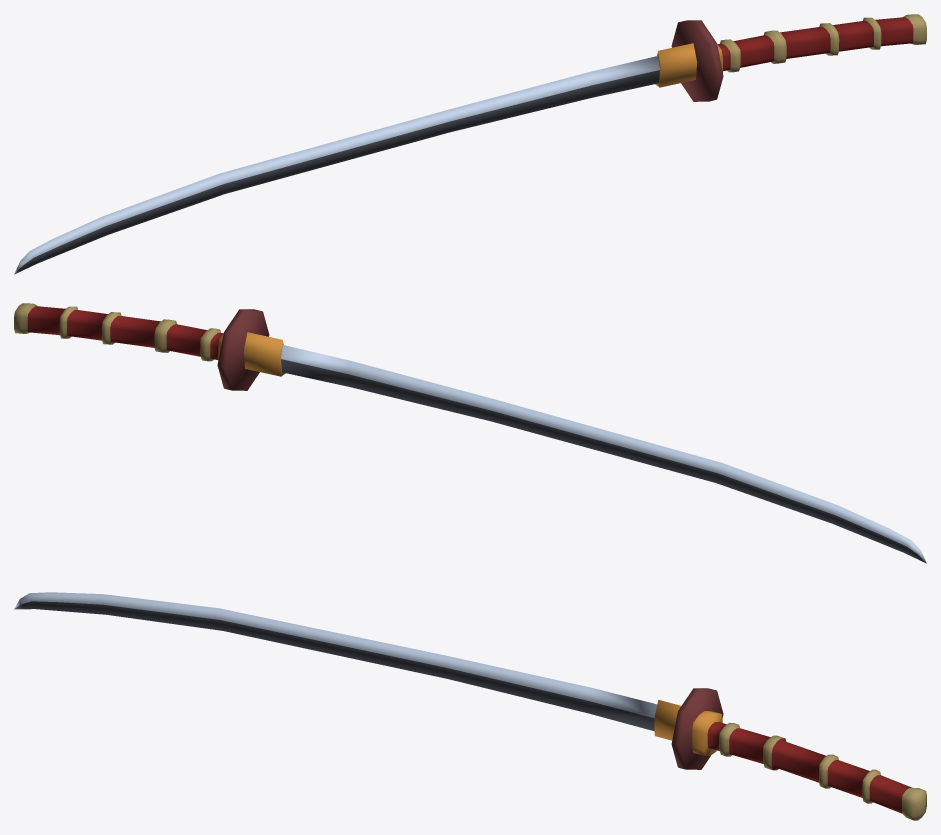
The model's file is Katana  Asia.fbx.
The picture shows the model from 3 angles, top to bottom: view 1: azimuth 30°, elevation 25°; view 2: azimuth 150°, elevation 25°; view 3: azimuth 330°, elevation 25°; orthographic projection.
Visible parts, largest first — view 1: Katana; view 2: Katana; view 3: Katana.
Boxes of the visible parts, <box> form: Katana: <box>14,14,926,274</box>; Katana: <box>14,303,926,563</box>; Katana: <box>14,592,926,820</box>.
Bounding box in the file's own units: 85.29 × 7.78 × 7.15.
